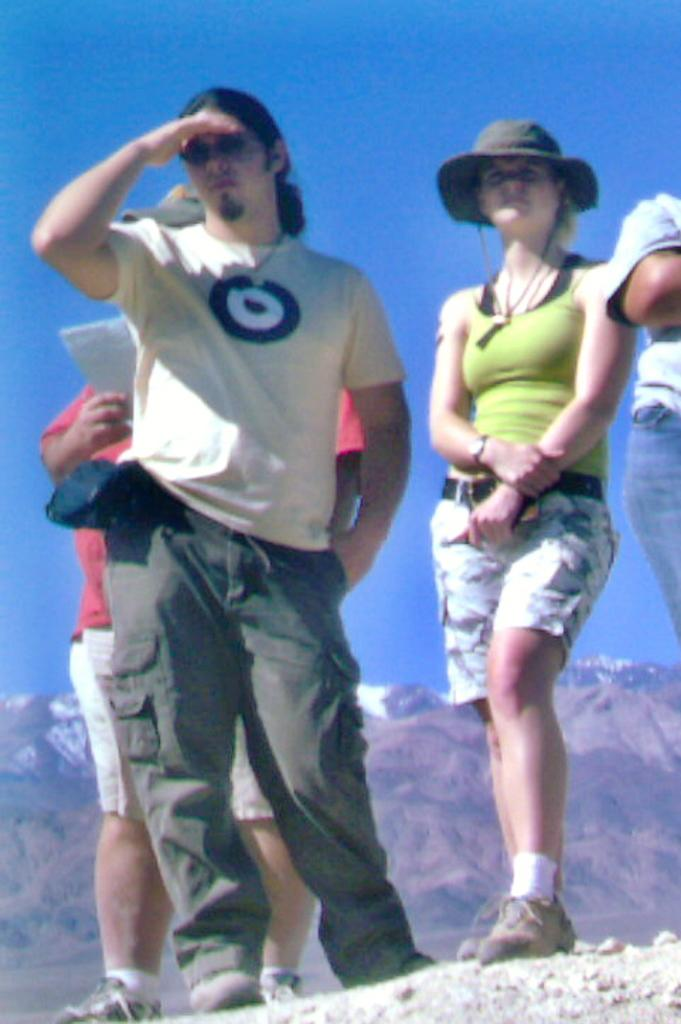Hat: (432, 121, 602, 345), (122, 180, 208, 226)
